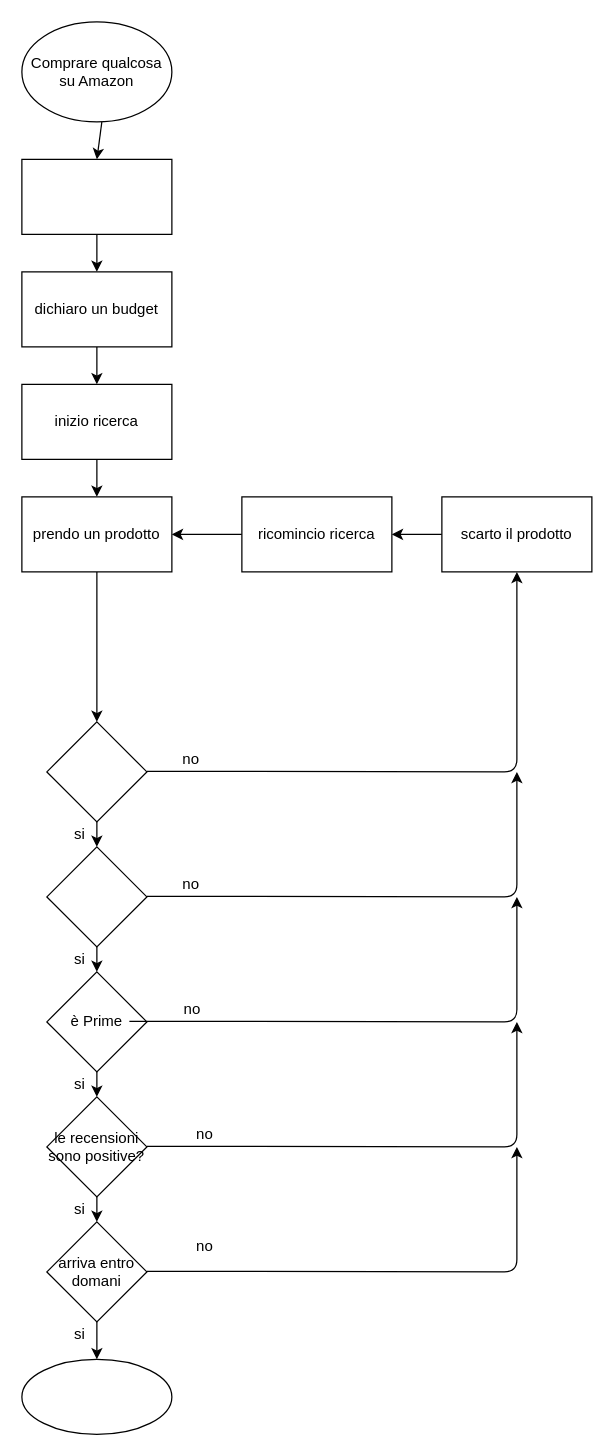
This 614x1456 diagram has some shape labels left out. Each missing label, with the box of its shape:
checkout: (21, 1358, 172, 1434)
dichiaro un elenco dei regali papabili: (21, 158, 172, 234)
rientra nel budget: (46, 846, 147, 947)
è nella lista dei regali papabili: (46, 721, 147, 822)
